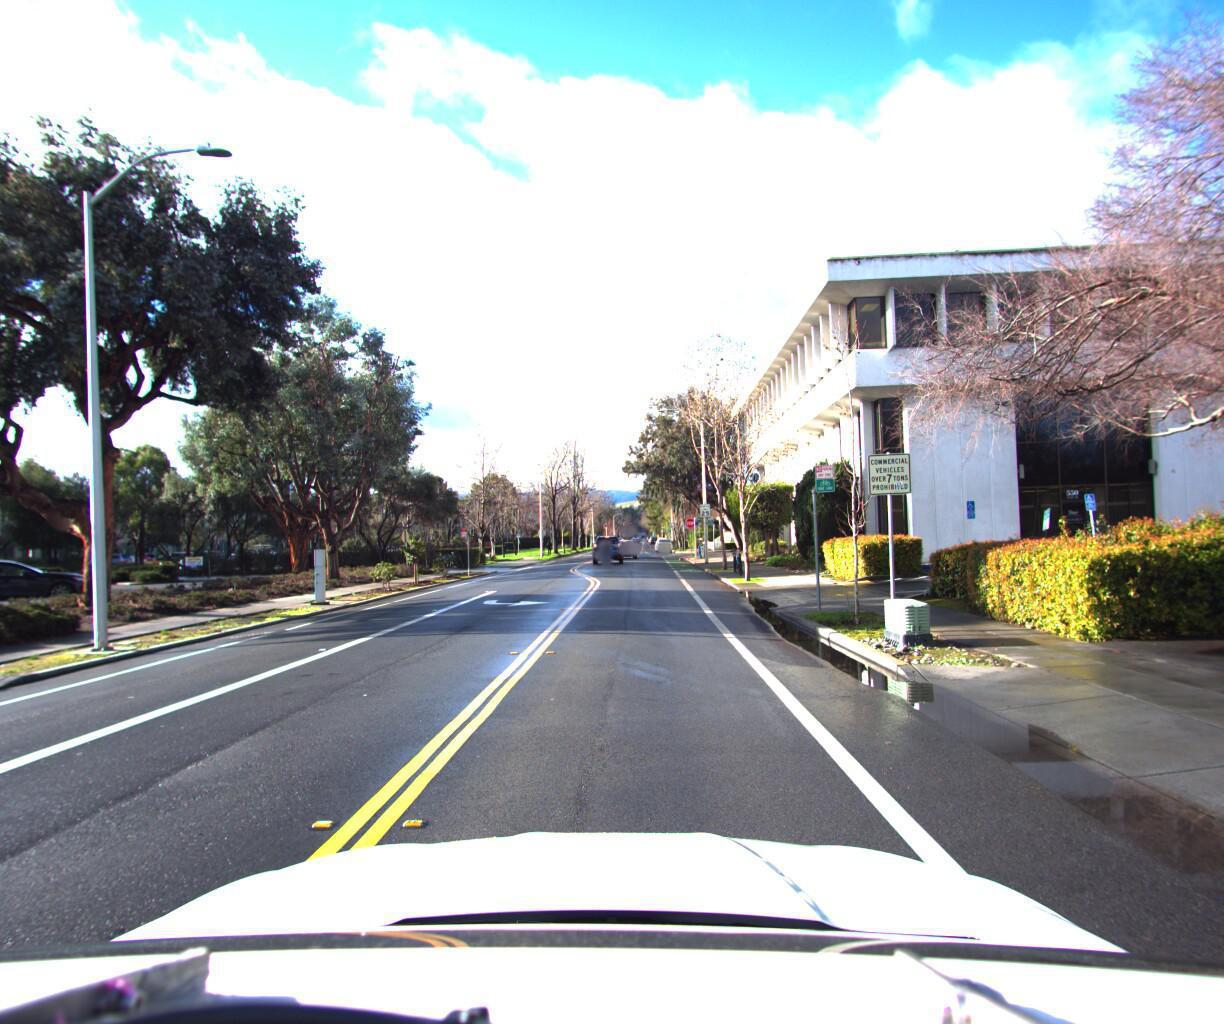bicycle: (721, 538, 746, 568)
car: (0, 551, 103, 612), (590, 530, 623, 560), (609, 529, 635, 554)
